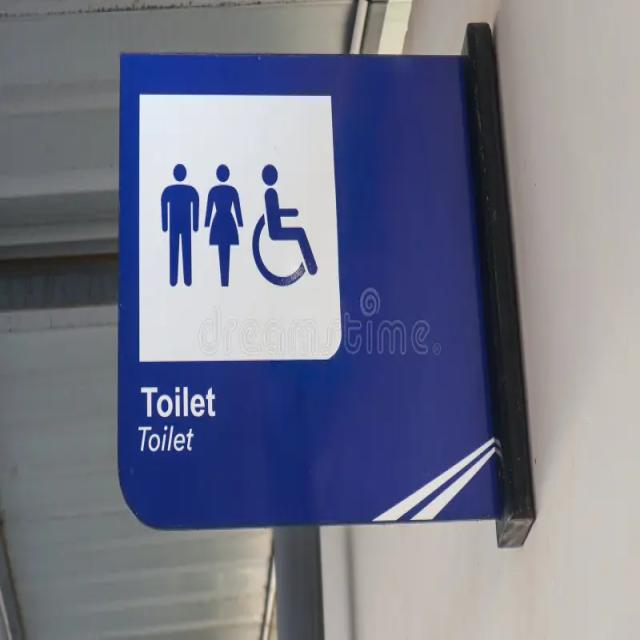toilet_icon: (151, 140, 325, 330)
